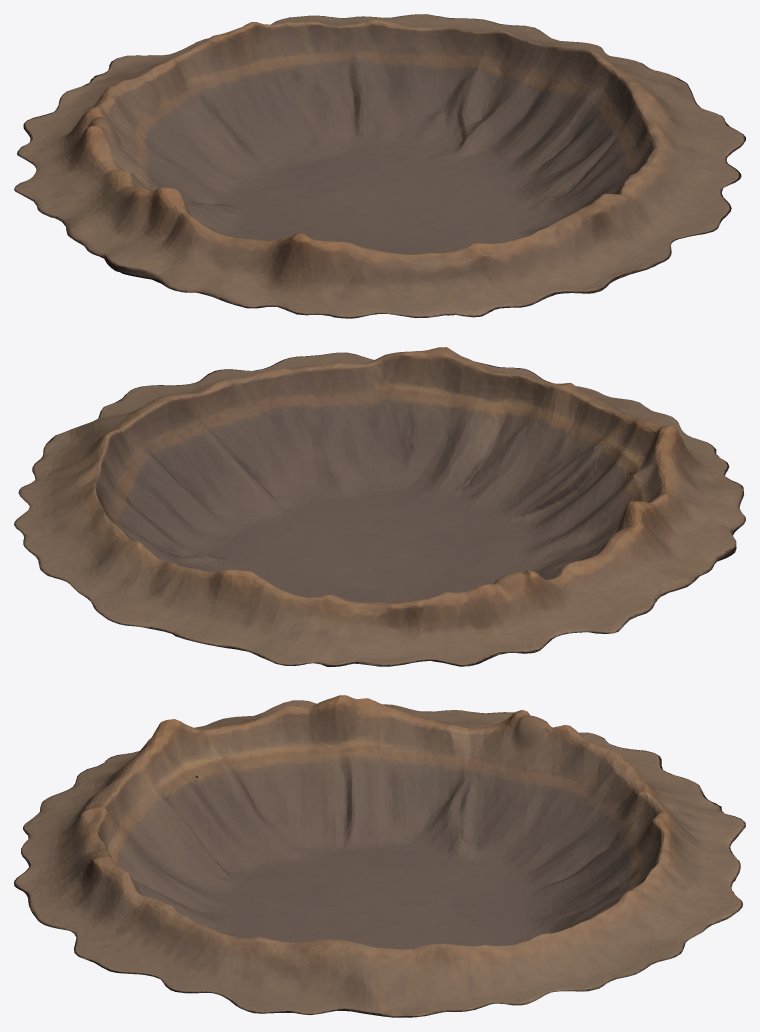
The picture shows the model from 3 angles, top to bottom: view 1: azimuth 30°, elevation 25°; view 2: azimuth 150°, elevation 25°; view 3: azimuth 270°, elevation 25°; orthographic projection.
Parts seen in each view (by area): view 1: world; view 2: world, upper repair; view 3: world, upper repair.
Part boxes in pixels (x1=…): world: x1=14, y1=14, x2=745, y2=318; world: x1=14, y1=347, x2=745, y2=666; upper repair: x1=492, y1=570, x2=528, y2=598; world: x1=14, y1=695, x2=745, y2=1017; upper repair: x1=509, y1=712, x2=555, y2=753.
Bounding box in the file's own units: 0.9998 × 0.1572 × 0.9986.
Materials: 3 (1 with a texture image).
